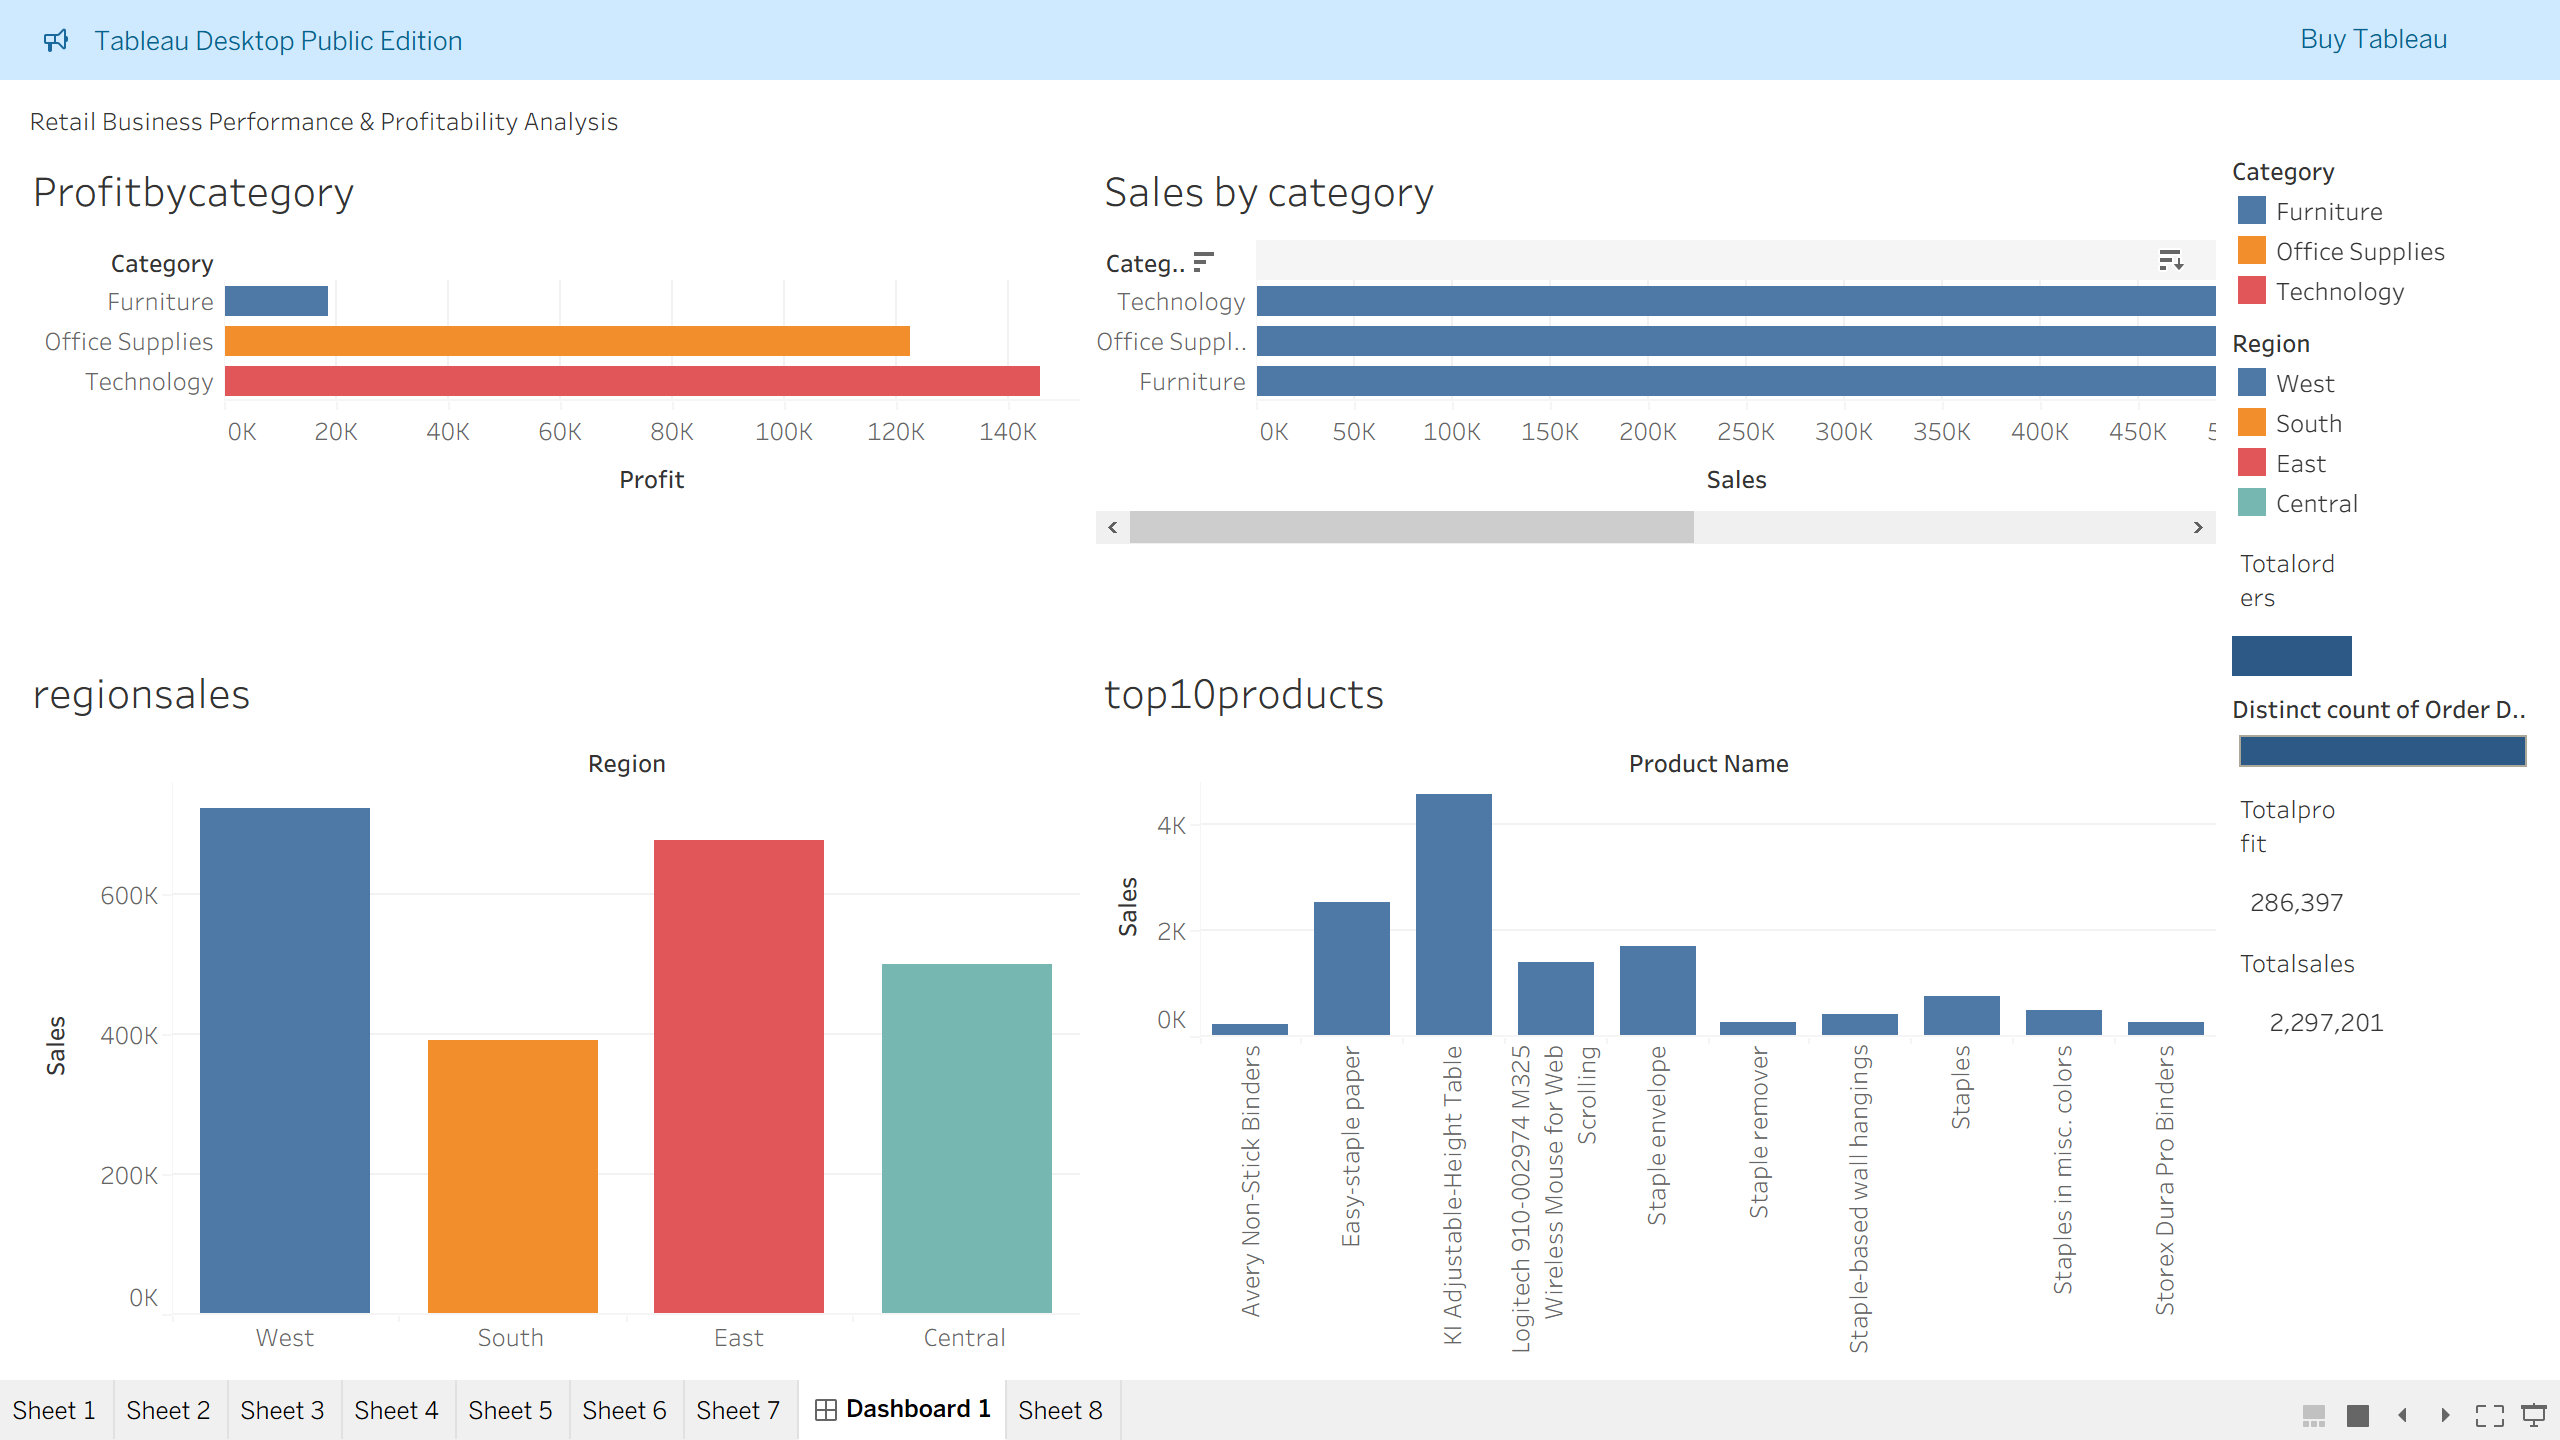

The dashboard page shown, as its layout file describes it:
{"tool":"tableau","page":{"name":"Dashboard 1","canvas":[1000,1000],"units":"permille","ordinal":0},"visuals":[{"type":"title","box":[6.4,15.9,987.2,49.6]},{"type":"worksheet","title":"Sheet 5","mark":"Automatic","rows":["Category"],"cols":["Profit"],"box":[6.4,65.5,417.7,378.3]},{"type":"worksheet","title":"Sheet 4","mark":"Automatic","rows":["Category"],"cols":["Sales"],"box":[424.1,65.5,441.9,378.3]},{"type":"legend","title":"Sheet 5","param":"[federated.1dzh83o1gqj5kv1ey0dv804800np].[none:Category:nk]","box":[866,65.5,127.6,170.6]},{"type":"legend","title":"Sheet 6","param":"[federated.1dzh83o1gqj5kv1ey0dv804800np].[none:Region:nk]","box":[866,236.1,127.6,210.3]},{"type":"worksheet","title":"Sheet 6","mark":"Automatic","rows":["Sales"],"cols":["Region"],"box":[6.4,443.8,417.7,540.3]},{"type":"worksheet","title":"Sheet 7","mark":"Automatic","rows":["Sales"],"cols":["Product Name"],"box":[424.1,443.8,441.9,540.3]},{"type":"worksheet","title":"Sheet 3","mark":"Automatic","box":[866,446.4,127.6,152.8]},{"type":"legend","title":"Sheet 3","param":"[federated.1dzh83o1gqj5kv1ey0dv804800np].[ctd:Order Date:qk]","box":[866,599.2,127.6,91.3]},{"type":"worksheet","title":"Sheet 2","mark":"Automatic","box":[866,690.5,127.6,152.8]},{"type":"worksheet","title":"Sheet 1","mark":"Automatic","box":[866,843.2,127.6,119]}]}

Visuals, with their boxes on the dashboard's canvas, which has no fixed pixel size, in thousandths of its width and height (x1, y1, x2, y2). These are canvas units, not pixel positions in the 2560x1440 screenshot, which may show the page scaled, cropped or inside an application window:
title: Rect(6, 16, 994, 66)
"Sheet 5" worksheet: Rect(6, 66, 424, 444)
"Sheet 4" worksheet: Rect(424, 66, 866, 444)
"Sheet 5" legend: Rect(866, 66, 994, 236)
"Sheet 6" legend: Rect(866, 236, 994, 446)
"Sheet 6" worksheet: Rect(6, 444, 424, 984)
"Sheet 7" worksheet: Rect(424, 444, 866, 984)
"Sheet 3" worksheet: Rect(866, 446, 994, 599)
"Sheet 3" legend: Rect(866, 599, 994, 690)
"Sheet 2" worksheet: Rect(866, 690, 994, 843)
"Sheet 1" worksheet: Rect(866, 843, 994, 962)
